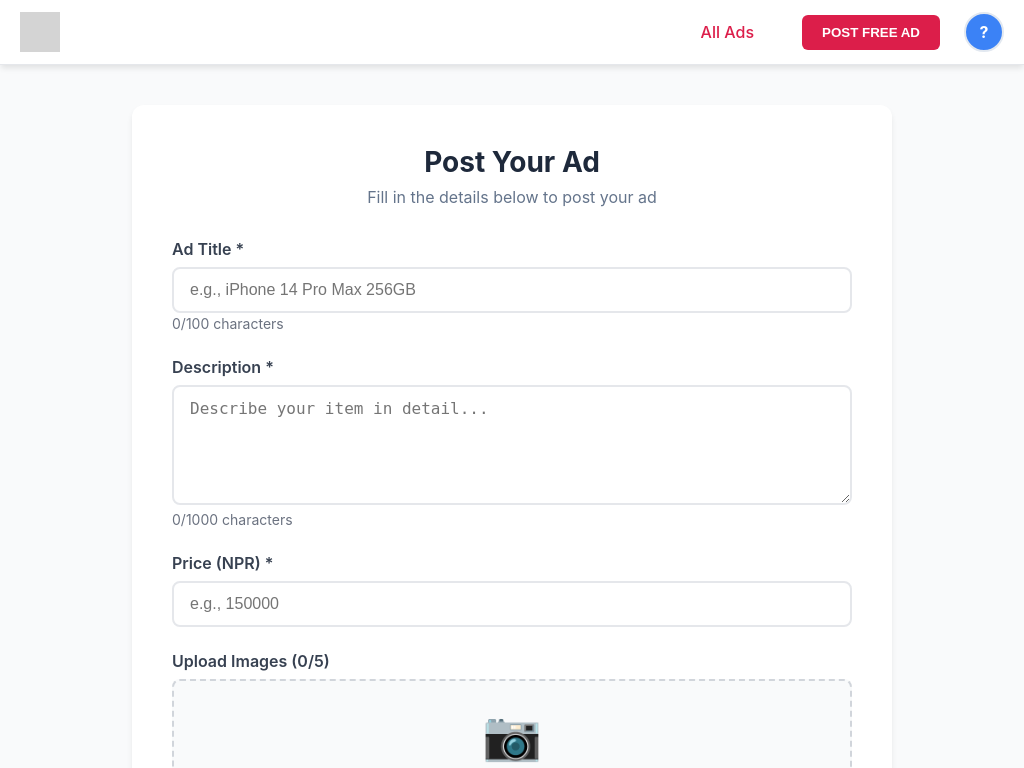
PostAd Component Integration Tests › Form Field Interactions › should show character counter for title
Expected: the heading "Post Your Ad" is shown, [424,145,600,179]
Type "Test Title" into the field named "title" at (512, 290), box [172,267,852,313]
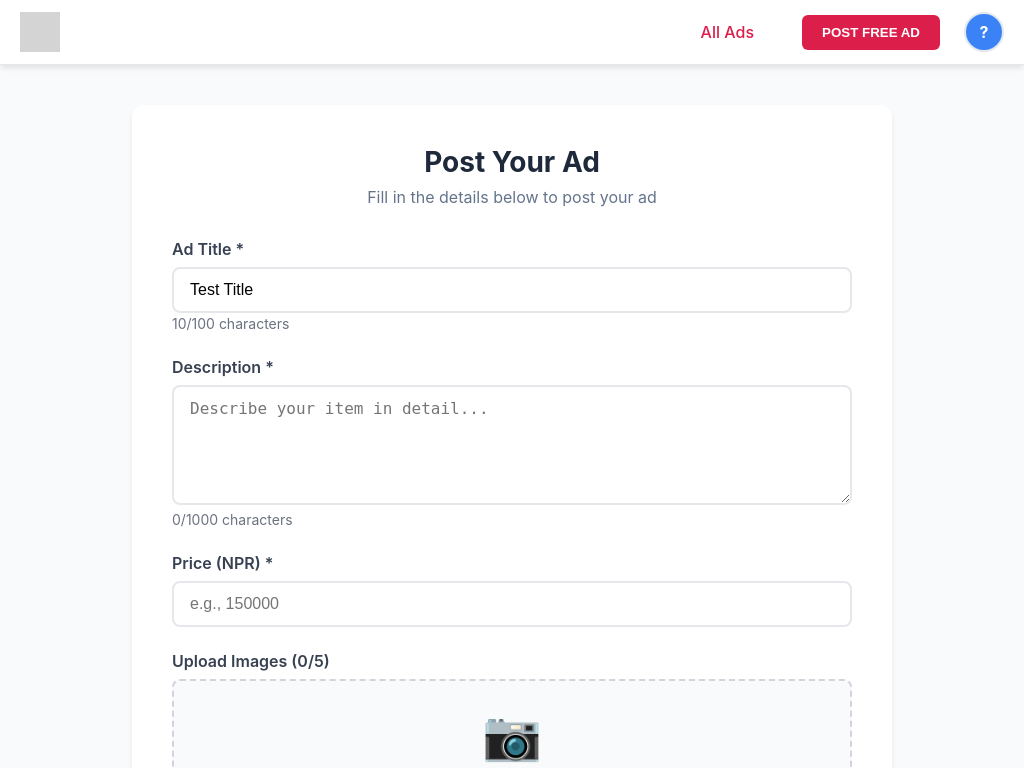
Expected: the text "10/100 characters" is shown, [172,315,289,332]
